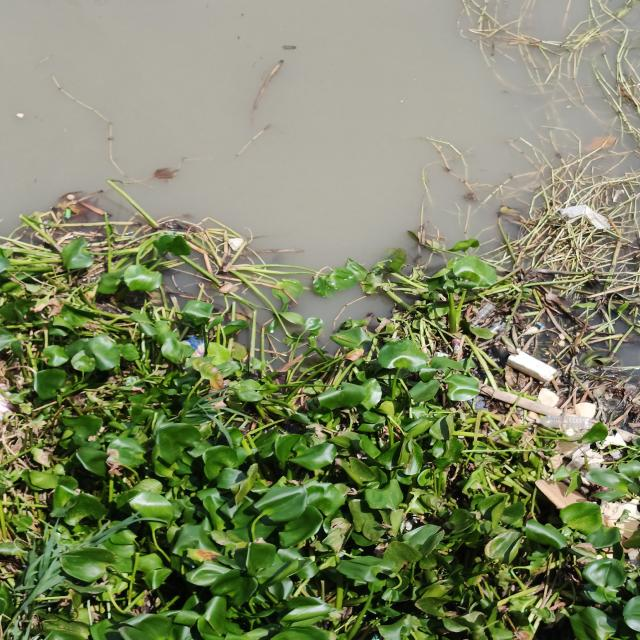Organic Debris: (404, 55, 640, 316), (43, 67, 160, 194), (249, 56, 289, 126), (228, 120, 274, 159)
Plastic: (10, 180, 640, 640), (490, 338, 563, 386), (556, 202, 616, 232), (531, 412, 595, 434), (223, 235, 246, 252)
